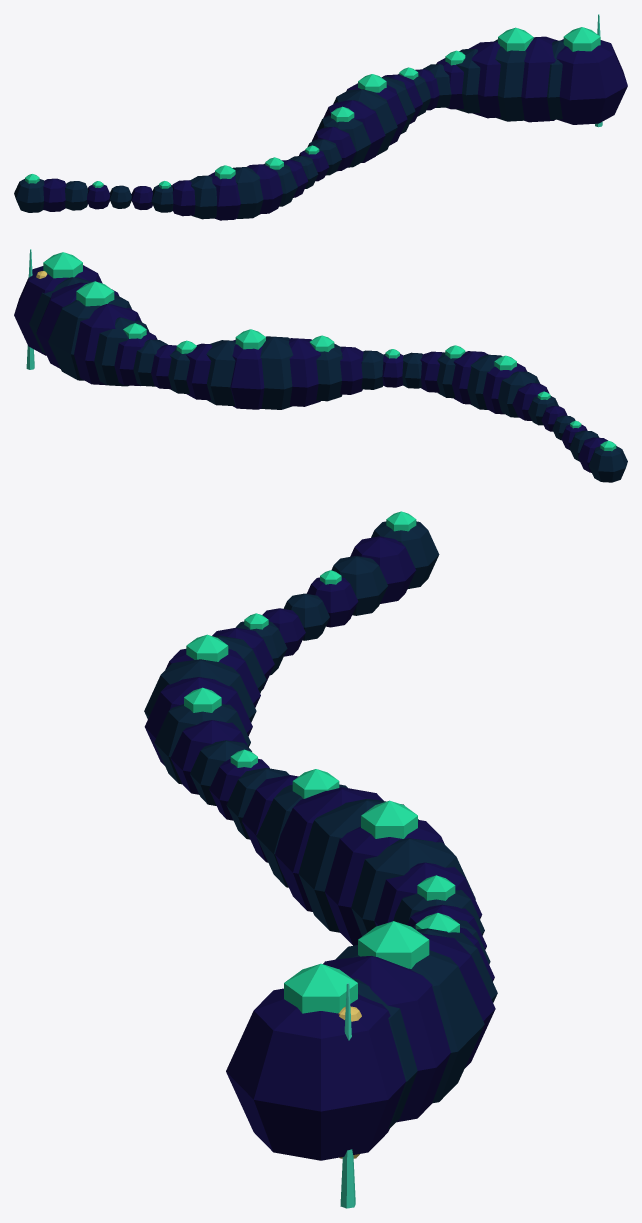
The model's file is nebula_serpent.glb.
3 views of the same model, one above another, from view 1: azimuth 30°, elevation 25°; view 2: azimuth 150°, elevation 25°; view 3: azimuth 270°, elevation 25° (orthographic). The views are drawn at different scales.
Visible parts, largest first — view 1: nebula_serpent; view 2: nebula_serpent; view 3: nebula_serpent.
Boxes of the visible parts, x1,y1,x2,y2 form: nebula_serpent: [14, 14, 627, 220]; nebula_serpent: [14, 249, 627, 482]; nebula_serpent: [144, 511, 497, 1208].
Bounding box in the file's own units: 1.95 × 0.3509 × 0.5076.
